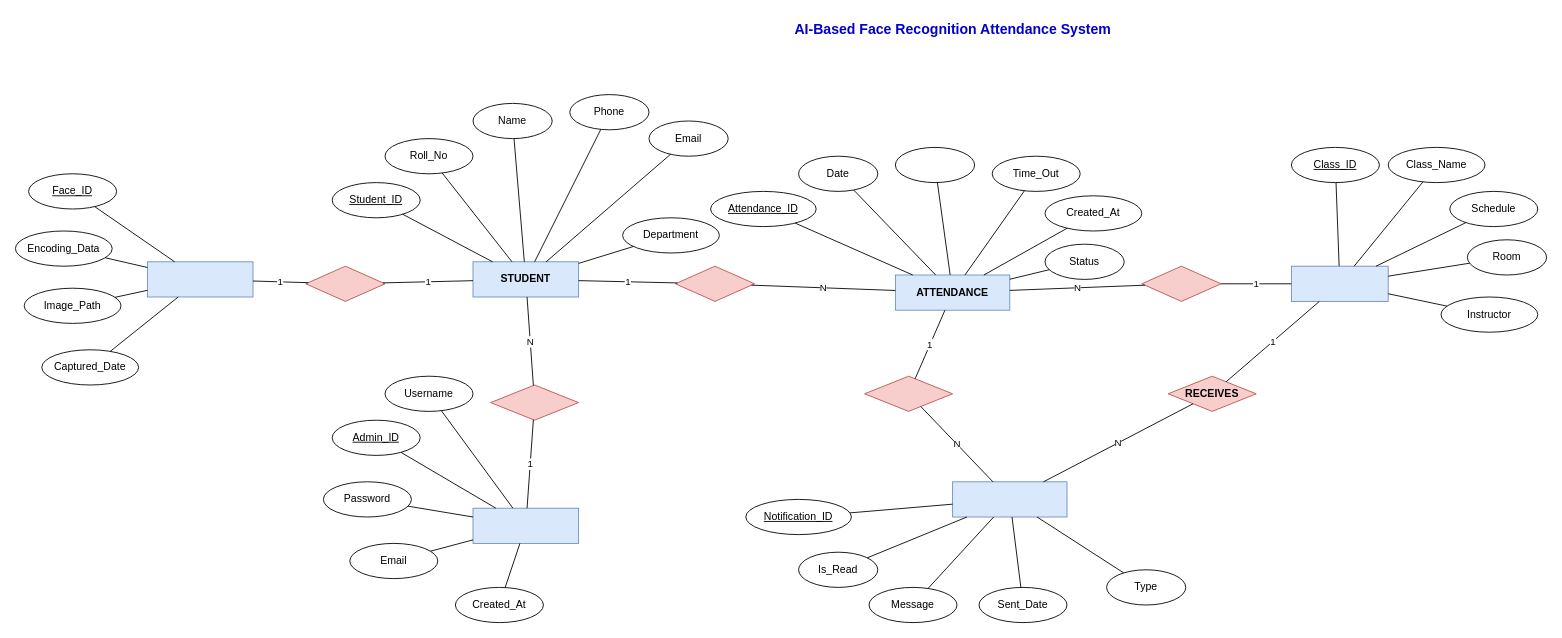
This 1562x638 diagram has some shape labels left out. Here are the shapes that lost their labels. From the top down, the box of each, then its label:
(895, 147, 975, 183): Time_In
(147, 261, 253, 297): FACE_DATA
(305, 265, 385, 301): CAPTURES
(675, 265, 755, 301): MARKS
(1141, 265, 1221, 301): BELONGS_TO
(1291, 265, 1388, 301): CLASS
(490, 384, 579, 420): MANAGES
(864, 375, 953, 411): GENERATES
(952, 481, 1067, 517): NOTIFICATION
(472, 507, 579, 543): ADMIN
